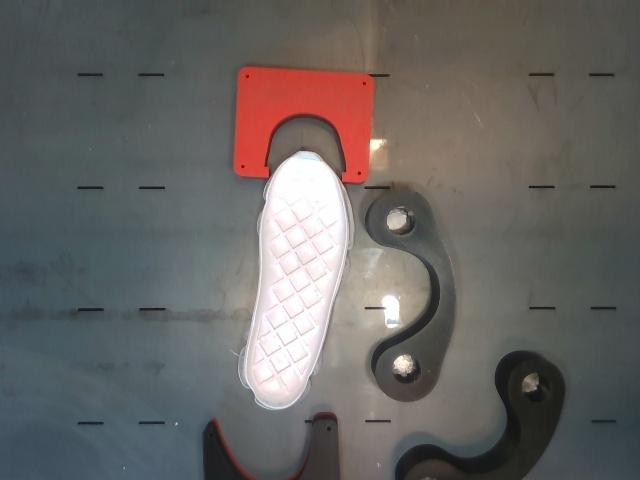shoes: (247, 153, 346, 406)
